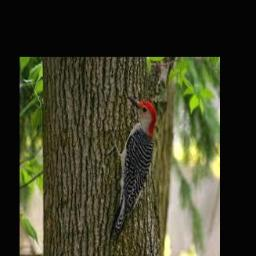Woodpecker: (107, 95, 157, 235)
